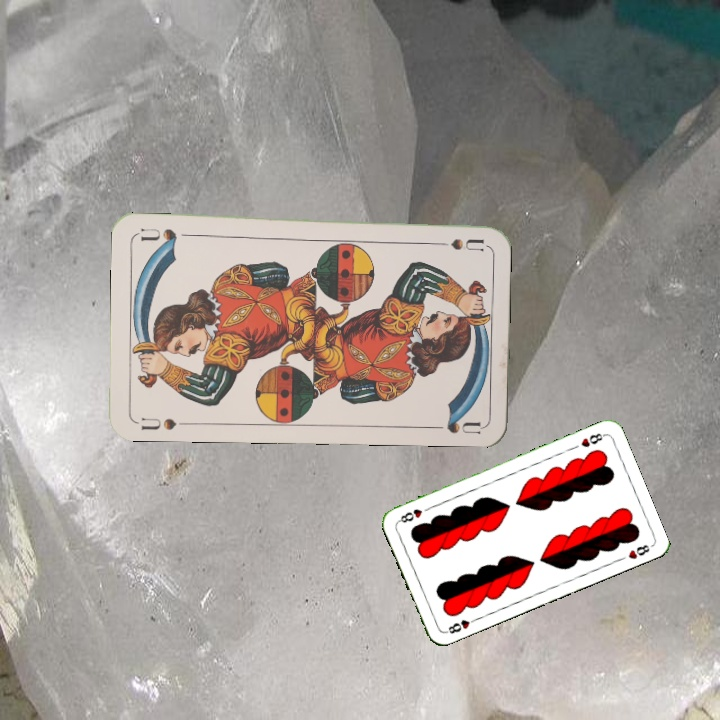H8: (441, 614, 480, 636), (577, 429, 608, 450)
SU: (426, 233, 485, 252), (137, 414, 179, 433)
